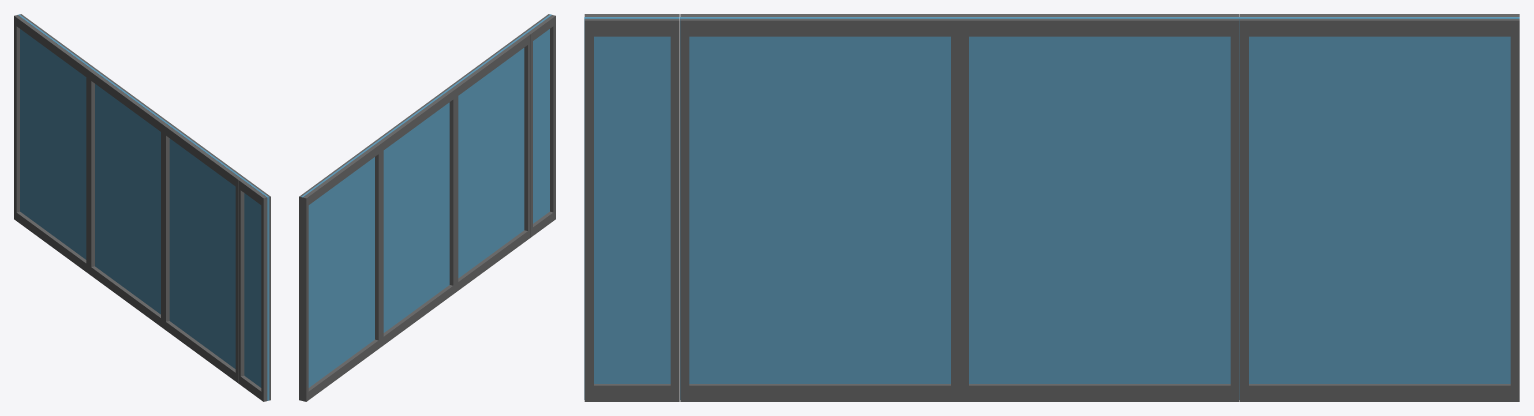
File: wall medium.fbx
The picture shows the model from 3 angles, left to right: view 1: azimuth 30°, elevation 25°; view 2: azimuth 150°, elevation 25°; view 3: azimuth 270°, elevation 25°; orthographic projection. The views are drawn at different scales.
Visible parts, largest first — view 1: Rectangle146.001, Rectangle178.001, Rectangle162.001, Rectangle177.001, Rectangle194.001, Rectangle161.001, Rectangle193.001, Rectangle145.001; view 2: Rectangle178.001, Rectangle146.001, Rectangle162.001, Rectangle145.001, Rectangle177.001, Rectangle161.001, Rectangle194.001, Rectangle193.001; view 3: Rectangle146.001, Rectangle178.001, Rectangle162.001, Rectangle194.001, Rectangle145.001, Rectangle161.001, Rectangle177.001, Rectangle193.001.
Boxes of the visible parts, left/top/right/bottom form: Rectangle146.001: left=18, top=14, right=93, bottom=259; Rectangle178.001: left=167, top=124, right=243, bottom=368; Rectangle162.001: left=92, top=69, right=168, bottom=314; Rectangle177.001: left=163, top=123, right=244, bottom=382; Rectangle194.001: left=242, top=178, right=269, bottom=400; Rectangle161.001: left=88, top=69, right=170, bottom=327; Rectangle193.001: left=238, top=178, right=270, bottom=401; Rectangle145.001: left=14, top=14, right=95, bottom=273; Rectangle178.001: left=450, top=33, right=526, bottom=278; Rectangle146.001: left=301, top=142, right=376, bottom=387; Rectangle162.001: left=376, top=87, right=451, bottom=332; Rectangle145.001: left=299, top=142, right=380, bottom=401; Rectangle177.001: left=449, top=32, right=530, bottom=292; Rectangle161.001: left=374, top=87, right=455, bottom=346; Rectangle194.001: left=525, top=14, right=551, bottom=223; Rectangle193.001: left=523, top=14, right=555, bottom=237; Rectangle146.001: left=1239, top=17, right=1519, bottom=399; Rectangle178.001: left=680, top=17, right=959, bottom=399; Rectangle162.001: left=959, top=17, right=1239, bottom=383; Rectangle194.001: left=584, top=17, right=679, bottom=399; Rectangle145.001: left=1240, top=14, right=1519, bottom=401; Rectangle161.001: left=960, top=14, right=1239, bottom=401; Rectangle177.001: left=680, top=14, right=959, bottom=401; Rectangle193.001: left=584, top=14, right=679, bottom=401.
Size of the model in its own units: 10 by 268 by 595.
